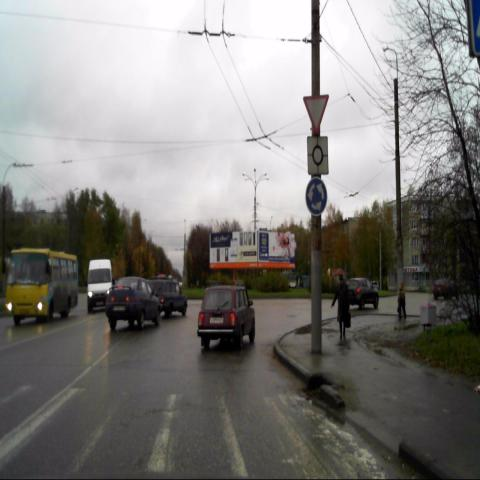4_3: (306, 176, 328, 217)
8_13_1: (306, 135, 330, 176)
